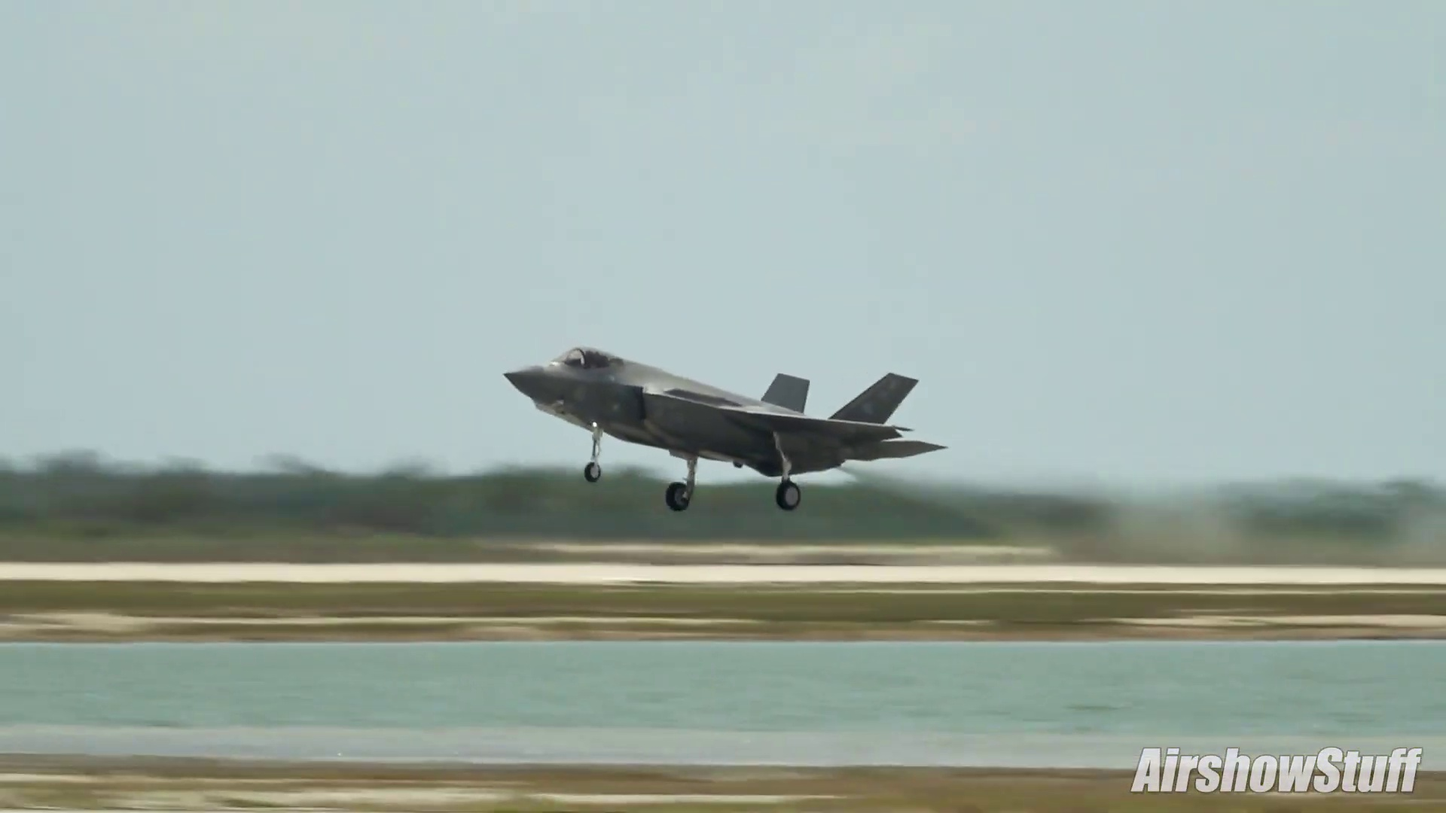F35: (497, 324, 953, 523)
